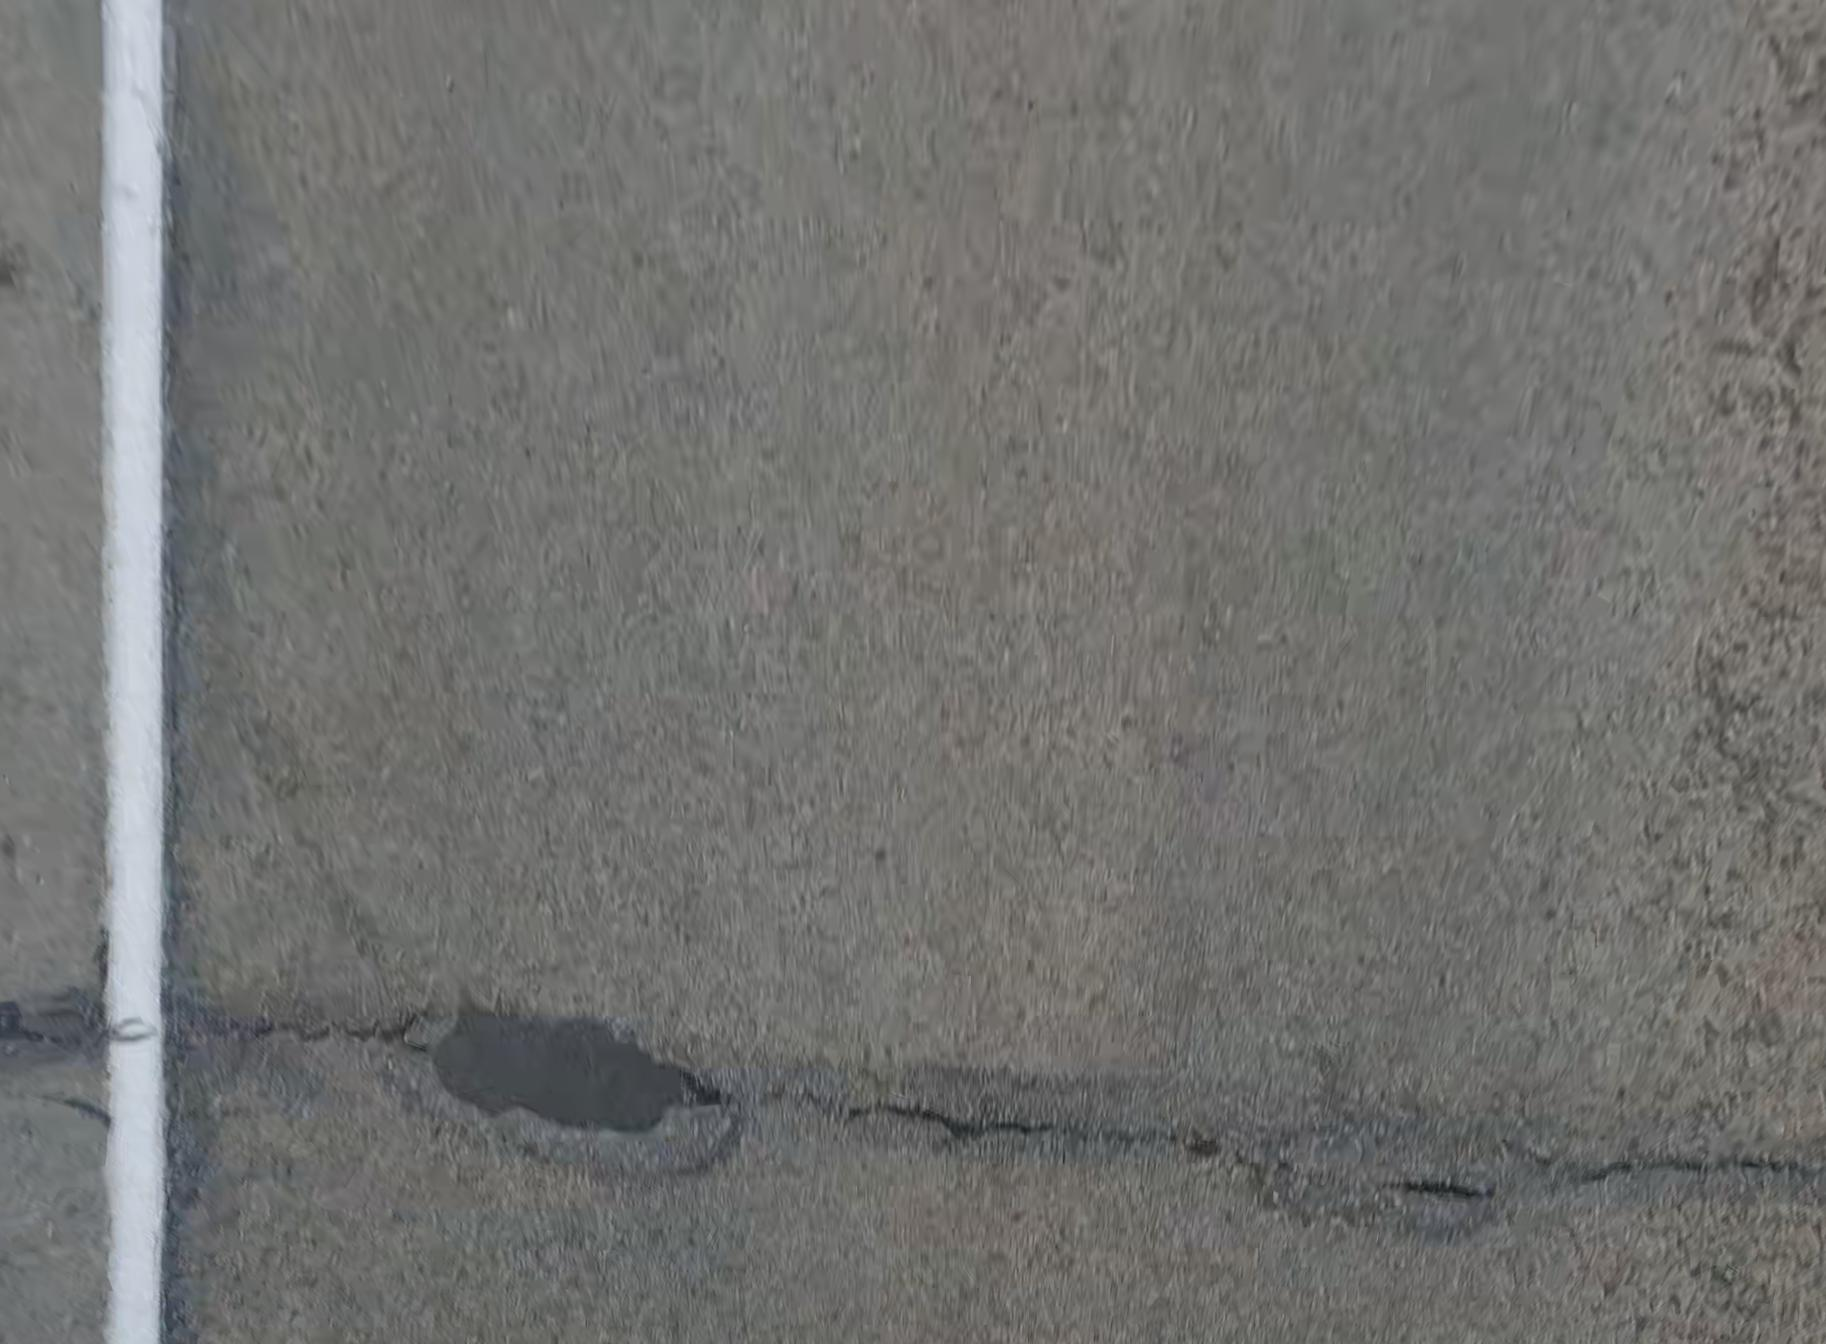pothole_patch_good: (432, 1017, 683, 1133)
